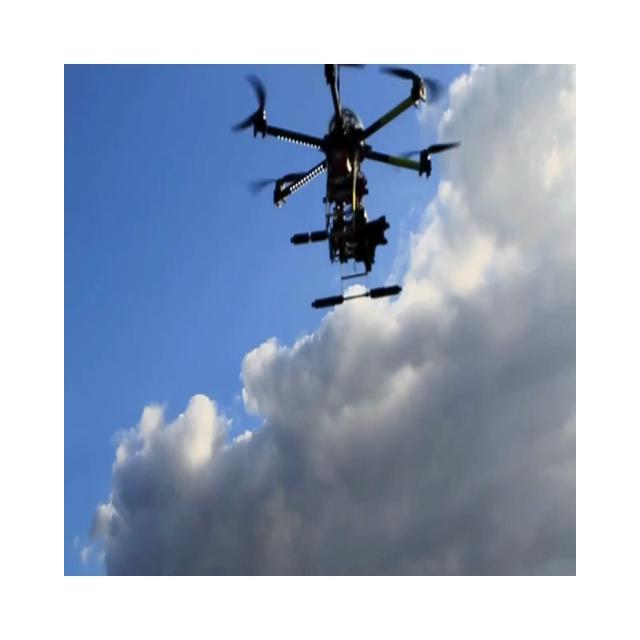drone: (230, 63, 461, 310)
